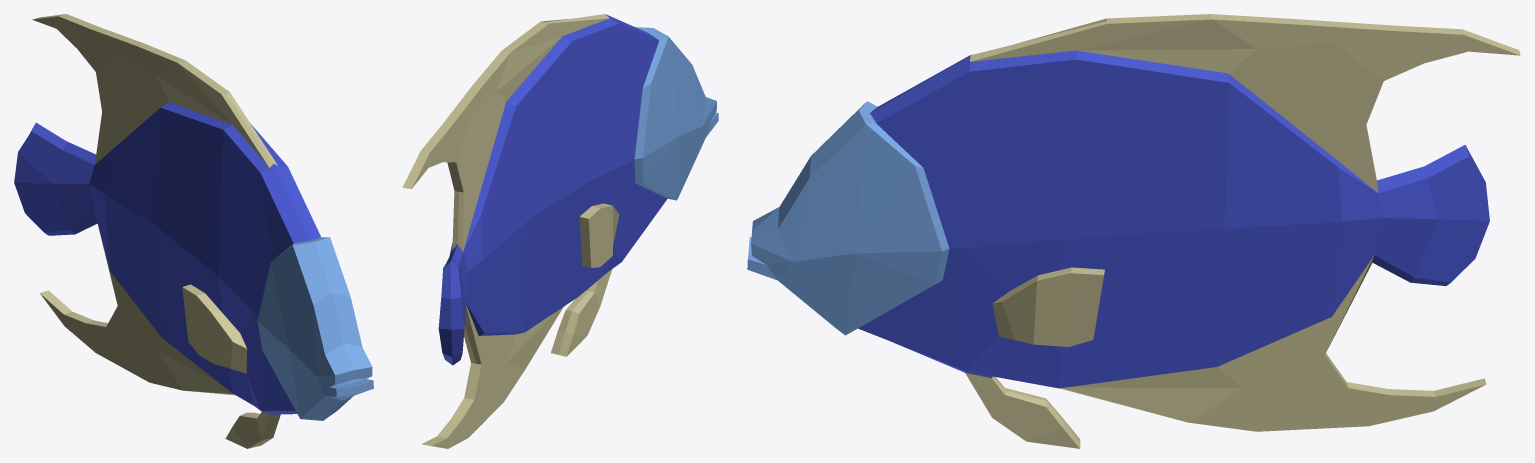
File: Fish2.glb
3 renders of one model, left to right at view 1: azimuth 30°, elevation 25°; view 2: azimuth 150°, elevation 25°; view 3: azimuth 270°, elevation 25°, orthographic. The views are drawn at different scales.
Parts seen in each view (by area): view 1: Fish2_Fish; view 2: Fish2_Fish; view 3: Fish2_Fish.
Boxes of the visible parts, left/top/right/bottom form: Fish2_Fish: left=14, top=14, right=373, bottom=448; Fish2_Fish: left=402, top=14, right=718, bottom=448; Fish2_Fish: left=747, top=14, right=1520, bottom=448.
Bounding box in the file's own units: 1.92 × 6.09 × 9.98.
